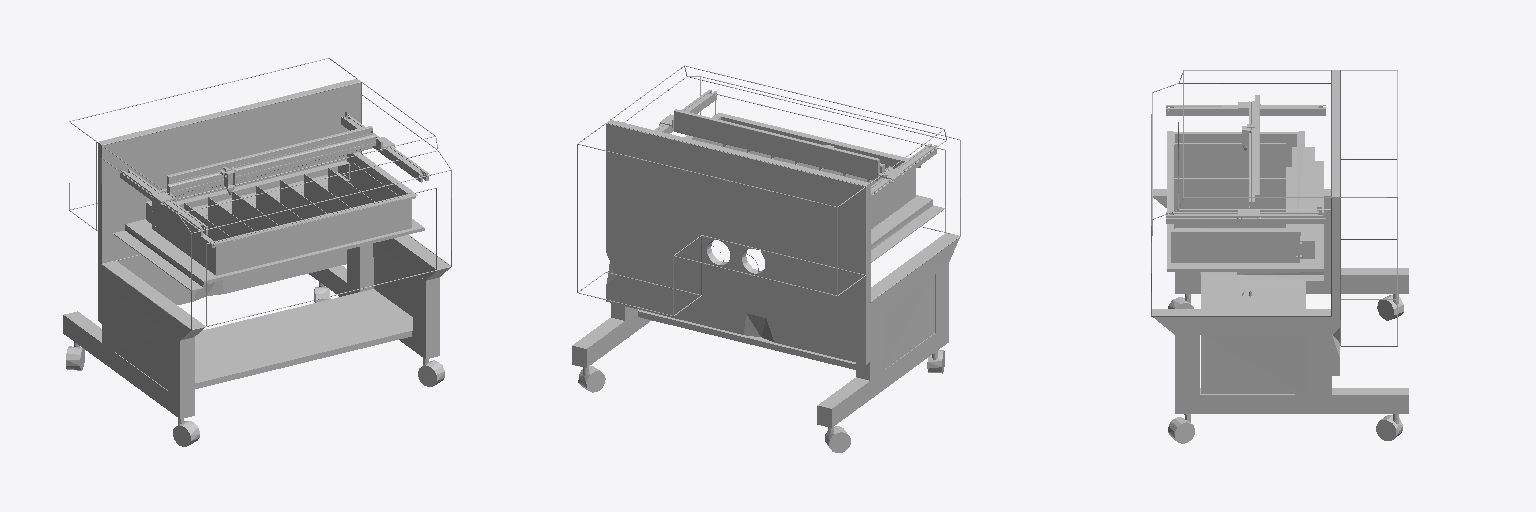
The model's file is chassis.obj.
The picture shows the model from 3 angles: view 1: azimuth 30°, elevation 25°; view 2: azimuth 150°, elevation 25°; view 3: azimuth 270°, elevation 25°; orthographic projection.
Visible parts, largest first — view 1: object_19, object_6, object_14, object_20, object_7, object_22, object_21, object_8, object_12, object_11, object_4, object_18 (+1 smaller); view 2: object_19, object_14, object_20, object_6, object_24, object_22, object_8, object_7, object_12, object_4, object_17, object_15; view 3: object_19, object_6, object_21, object_7, object_11, object_12, object_14, object_22, object_24, object_9, object_3, object_4 (+2 smaller).
Part boxes in pixels (left/top/right/bottom): object_19: left=63, top=79, right=450, bottom=418; object_6: left=146, top=154, right=417, bottom=275; object_14: left=150, top=126, right=395, bottom=204; object_20: left=115, top=293, right=167, bottom=389; object_7: left=125, top=175, right=424, bottom=284; object_22: left=101, top=82, right=451, bottom=329; object_21: left=373, top=243, right=412, bottom=316; object_8: left=113, top=228, right=211, bottom=290; object_12: left=120, top=168, right=207, bottom=235; object_11: left=341, top=114, right=428, bottom=182; object_4: left=210, top=193, right=416, bottom=244; object_18: left=418, top=358, right=444, bottom=386; object_19: left=572, top=120, right=959, bottom=427; object_14: left=659, top=109, right=903, bottom=182; object_20: left=883, top=274, right=934, bottom=370; object_6: left=692, top=114, right=920, bottom=228; object_24: left=577, top=123, right=866, bottom=316; object_22: left=610, top=65, right=960, bottom=302; object_8: left=871, top=203, right=944, bottom=262; object_7: left=871, top=195, right=932, bottom=246; object_12: left=871, top=144, right=936, bottom=200; object_4: left=717, top=113, right=908, bottom=160; object_17: left=578, top=366, right=605, bottom=392; object_15: left=825, top=426, right=850, bottom=452; object_19: left=1152, top=70, right=1408, bottom=413; object_6: left=1167, top=132, right=1314, bottom=262; object_21: left=1201, top=335, right=1305, bottom=394; object_7: left=1167, top=161, right=1323, bottom=271; object_11: left=1166, top=212, right=1325, bottom=223; object_12: left=1166, top=105, right=1325, bottom=115; object_14: left=1237, top=95, right=1260, bottom=219; object_22: left=1151, top=70, right=1331, bottom=316; object_24: left=1340, top=70, right=1397, bottom=346; object_9: left=1237, top=272, right=1323, bottom=280; object_3: left=1297, top=131, right=1304, bottom=230; object_4: left=1167, top=131, right=1174, bottom=230.
Bounding box in the file's own units: 46.28 × 39.88 × 37.76.